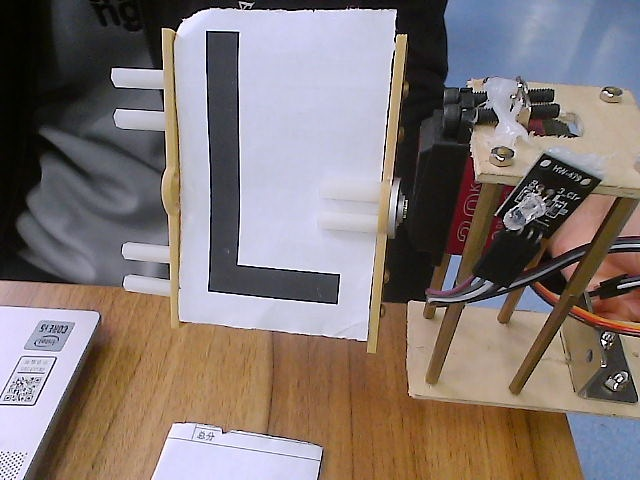L: (94, 4, 439, 362)
